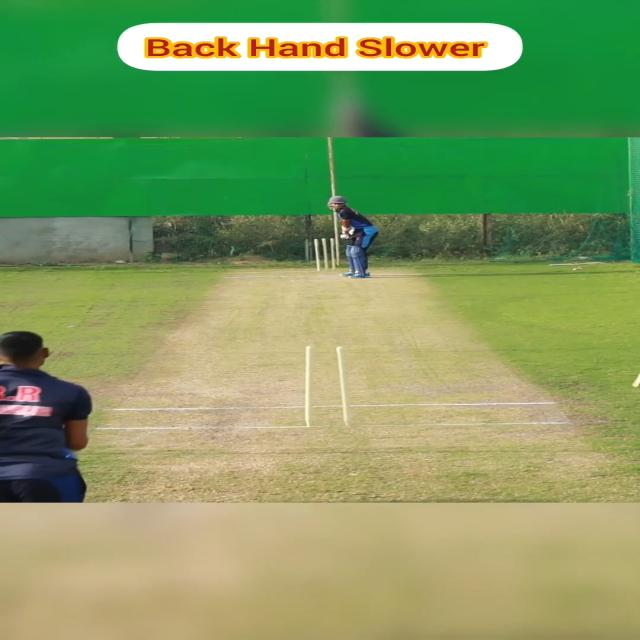stump: (303, 345, 353, 427), (314, 239, 337, 271)
